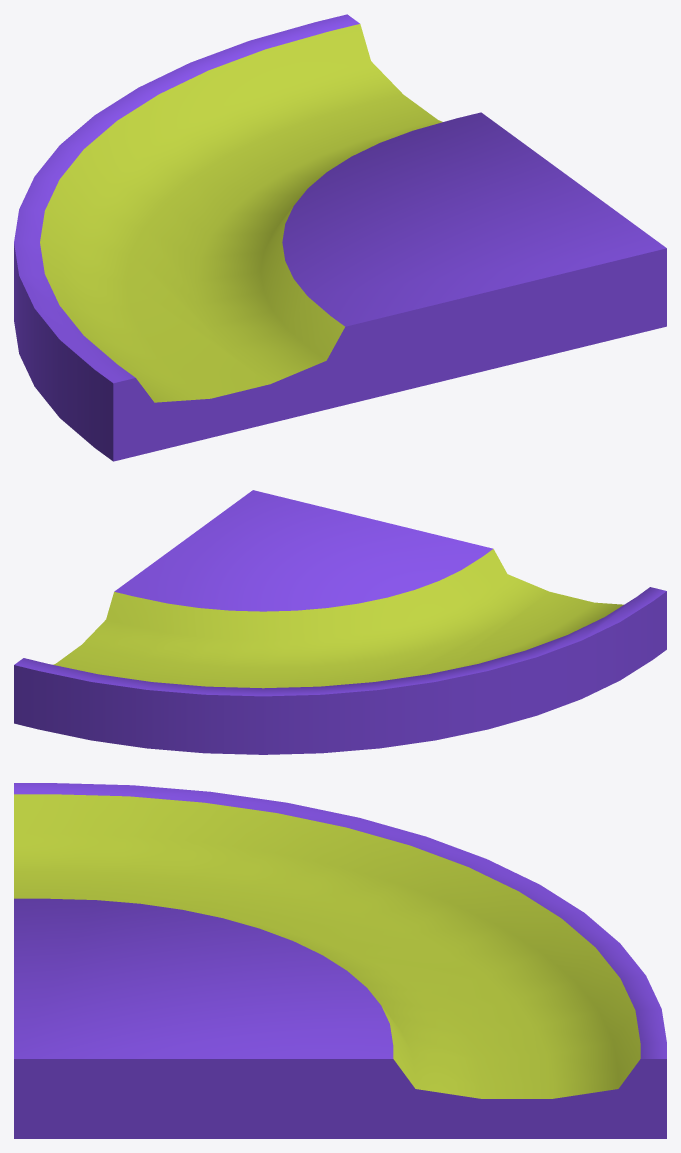
File: curve_wide_solid_large-col.dae
3 renders of one model, top to bottom at view 1: azimuth 30°, elevation 25°; view 2: azimuth 150°, elevation 25°; view 3: azimuth 270°, elevation 25°, orthographic. The views are drawn at different scales.
Parts seen in each view (by area): view 1: curve_wide_solid_large-col; view 2: curve_wide_solid_large-col; view 3: curve_wide_solid_large-col.
Part boxes in pixels (x1,y1,x2,y2): curve_wide_solid_large-col: [14, 14, 666, 461]; curve_wide_solid_large-col: [14, 490, 666, 754]; curve_wide_solid_large-col: [14, 783, 666, 1138].
Bounding box in the file's own units: 3.7 × 3.7 × 0.5.
